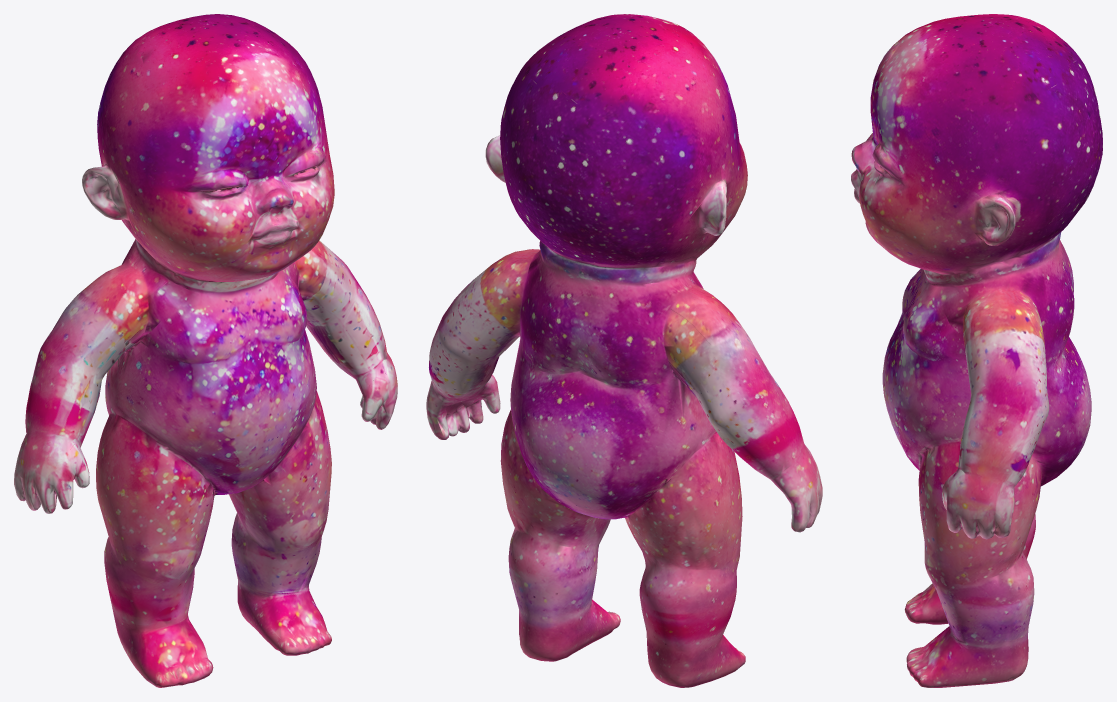
The picture shows the model from 3 angles, left to right: view 1: azimuth 30°, elevation 25°; view 2: azimuth 150°, elevation 25°; view 3: azimuth 270°, elevation 25°; orthographic projection. The views are drawn at different scales.
Visible parts, largest first — view 1: Meshy_AI_pink_glitter_baby_squ_0802220232_image-to-3d-texture; view 2: Meshy_AI_pink_glitter_baby_squ_0802220232_image-to-3d-texture; view 3: Meshy_AI_pink_glitter_baby_squ_0802220232_image-to-3d-texture.
Part boxes in pixels (x1=…): Meshy_AI_pink_glitter_baby_squ_0802220232_image-to-3d-texture: x1=14, y1=14, x2=397, y2=687; Meshy_AI_pink_glitter_baby_squ_0802220232_image-to-3d-texture: x1=426, y1=14, x2=822, y2=687; Meshy_AI_pink_glitter_baby_squ_0802220232_image-to-3d-texture: x1=851, y1=14, x2=1102, y2=687.
Bounding box in the file's own units: 1.19 × 1.9 × 0.6964.
Materials: 1 (1 with a texture image).
